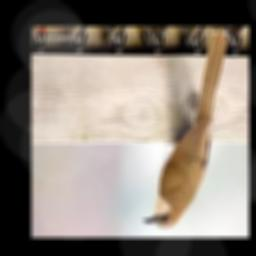Cuckoo: (142, 31, 227, 228)
